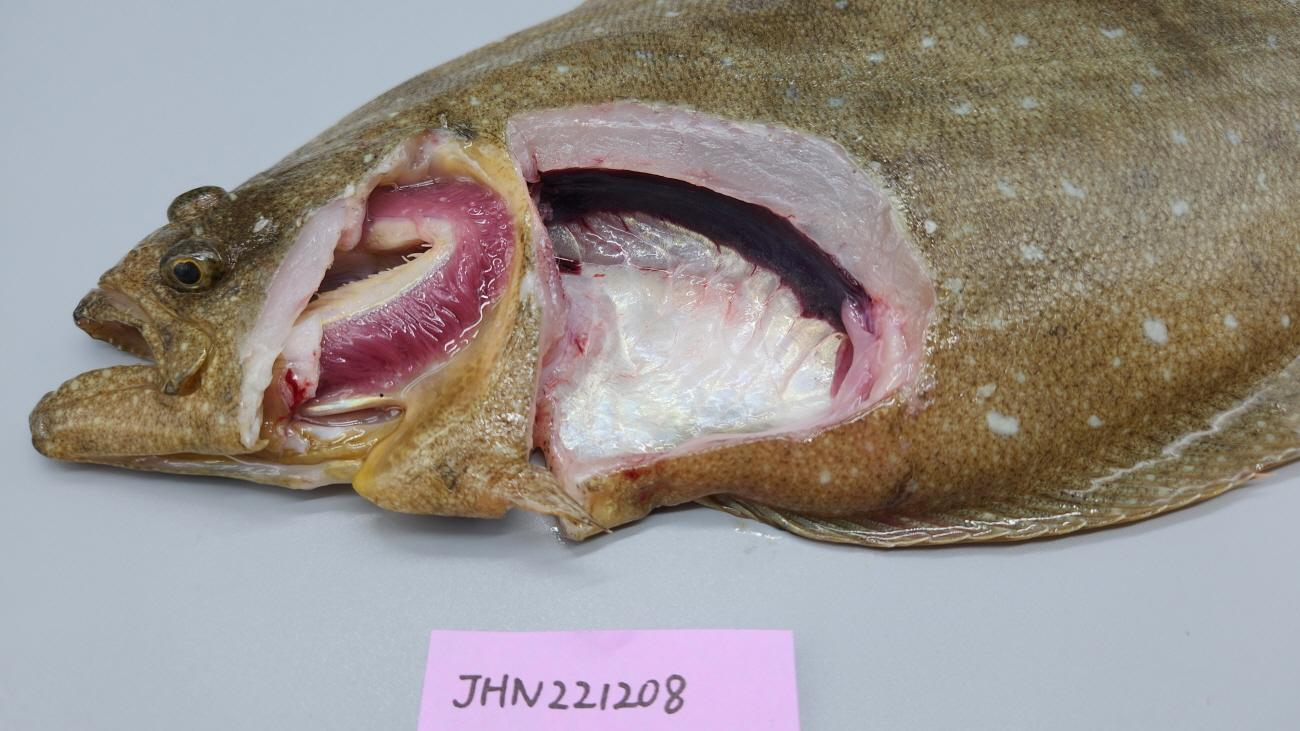POASN: (543, 211, 846, 462)
POKIN: (538, 166, 871, 335)
